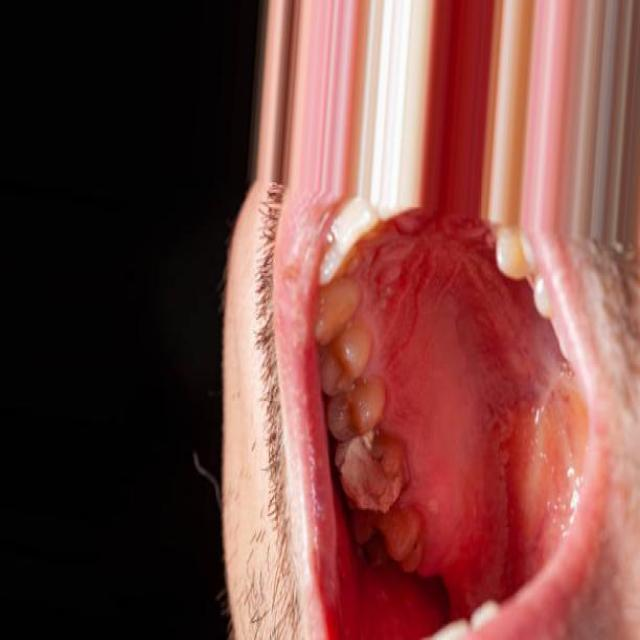caries: (328, 427, 412, 518)
